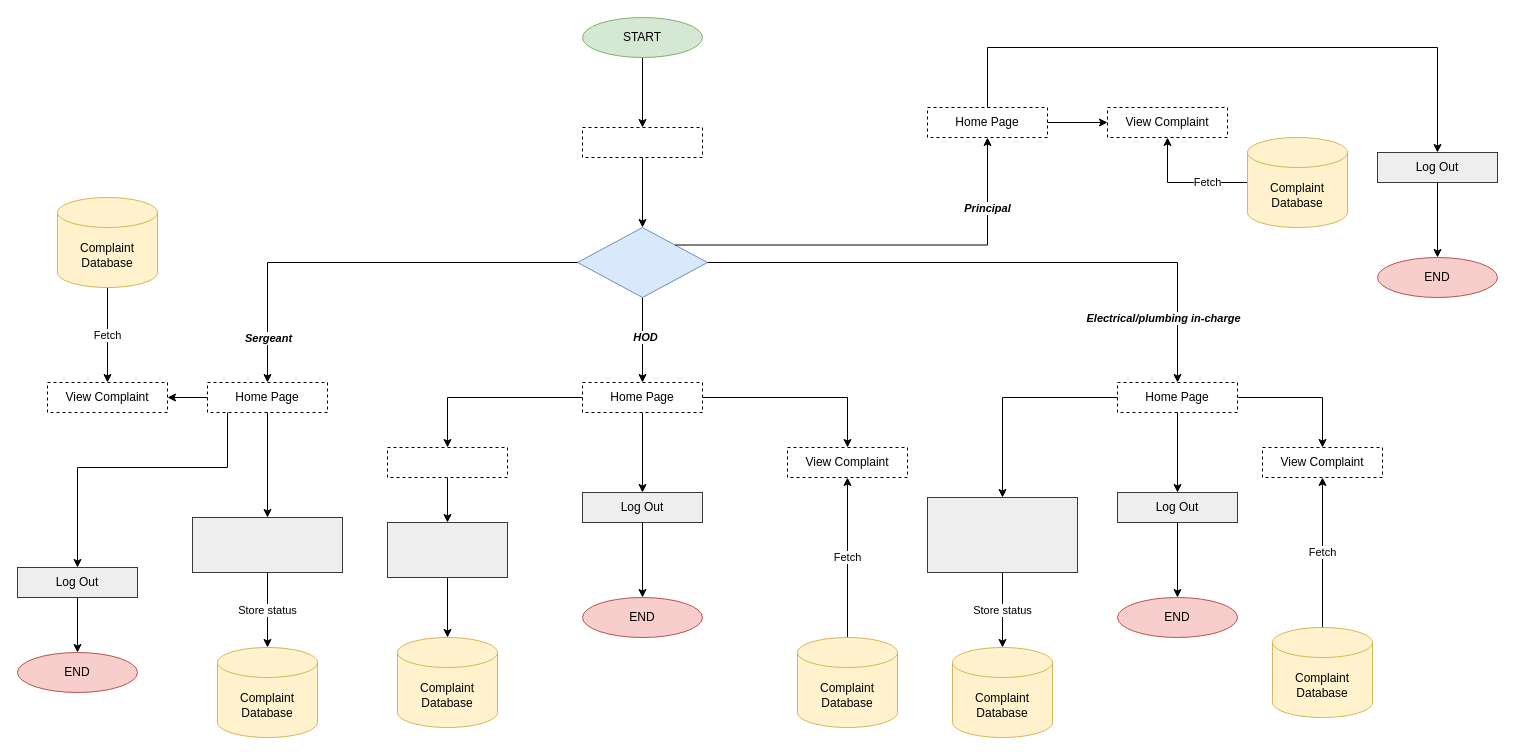
The diagram is 1515 pixels wide and 755 high, and some of its shapes have lost their labels. Each missing label, with the centre of its shape:
Check User: (642,262)
File Complaint: (447,462)
Login: (642,142)
Managing and Assigning Complaints: (267,544)
Register a new complaint: (447,550)
Verify and Approve/Decline complaints: (1002,534)
